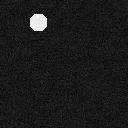nodule: (22, 6, 54, 38)
